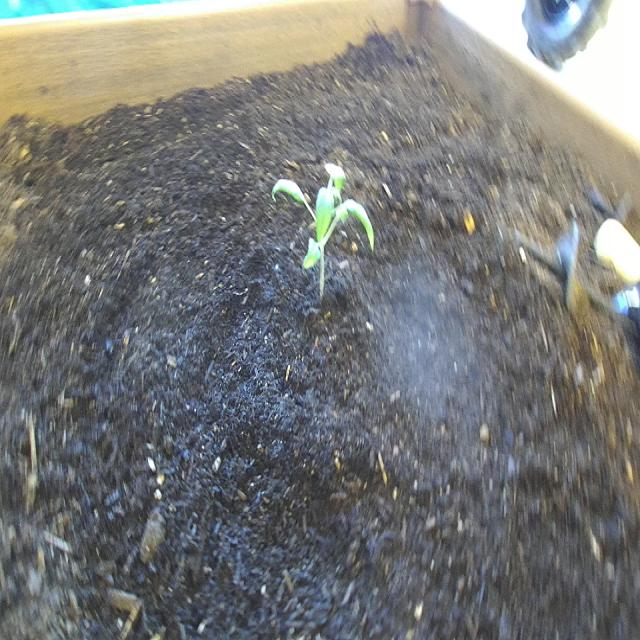Healthy: (265, 151, 377, 302)
